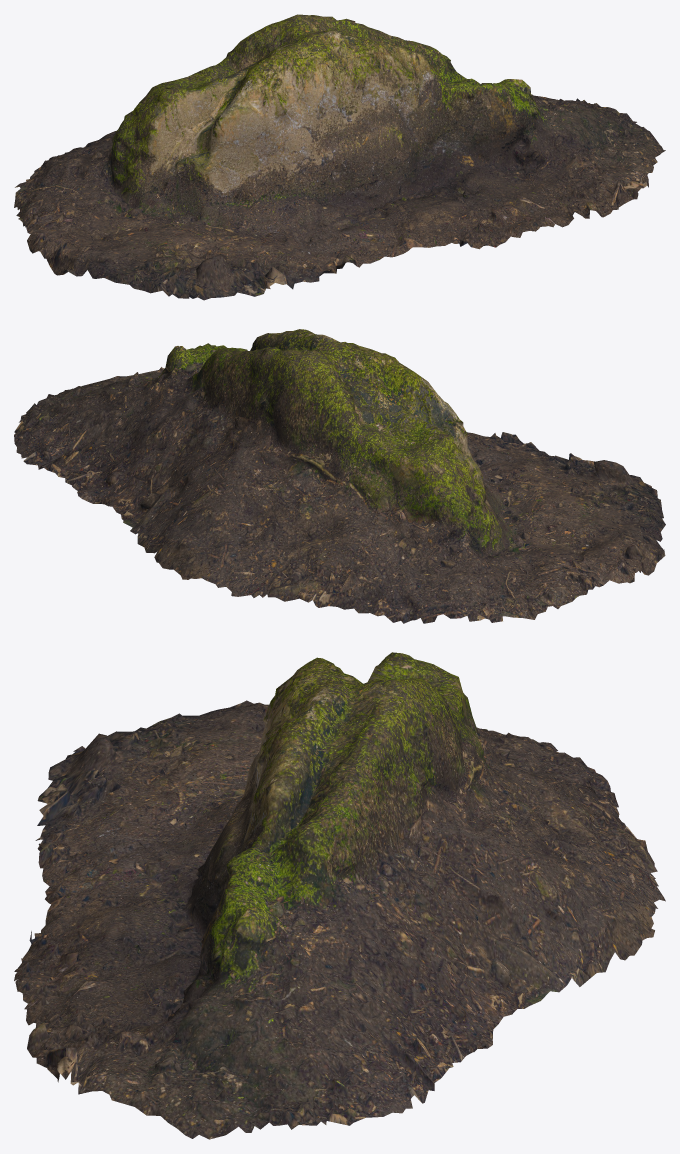
Rendered from PX_Mossy_Rock_05_LOD2.fbx.
The picture shows the model from 3 angles, top to bottom: view 1: azimuth 30°, elevation 25°; view 2: azimuth 150°, elevation 25°; view 3: azimuth 270°, elevation 25°; orthographic projection. The views are drawn at different scales.
Parts seen in each view (by area): view 1: PX_Mossy_Rock_05_LOD2; view 2: PX_Mossy_Rock_05_LOD2; view 3: PX_Mossy_Rock_05_LOD2.
Boxes of the visible parts, x1,y1,x2,y2 form: PX_Mossy_Rock_05_LOD2: (14,14,665,300); PX_Mossy_Rock_05_LOD2: (14,329,665,623); PX_Mossy_Rock_05_LOD2: (14,652,665,1139).
Size of the model in its own units: 104 by 27.81 by 66.99.
